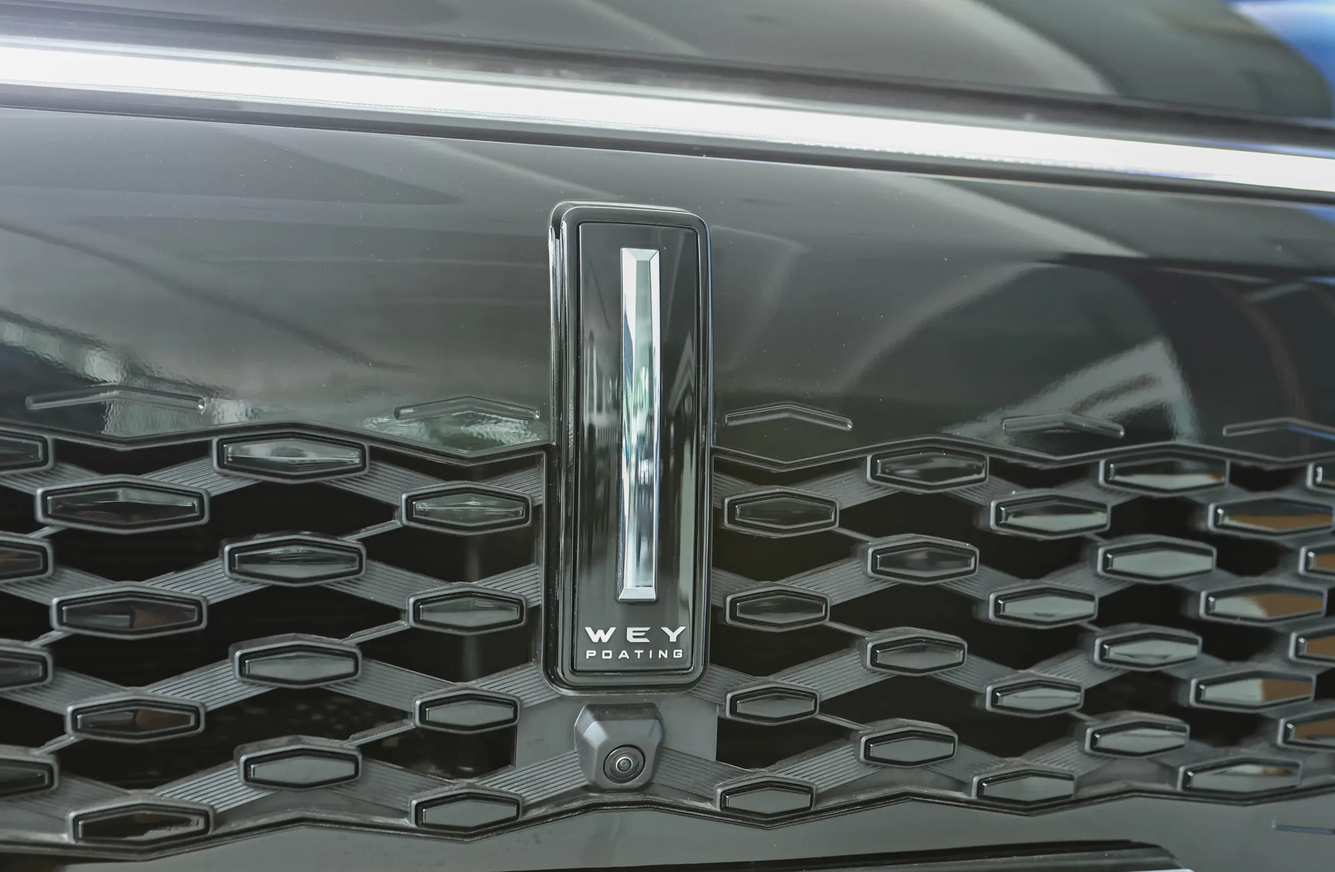WEY: (558, 208, 710, 685)
